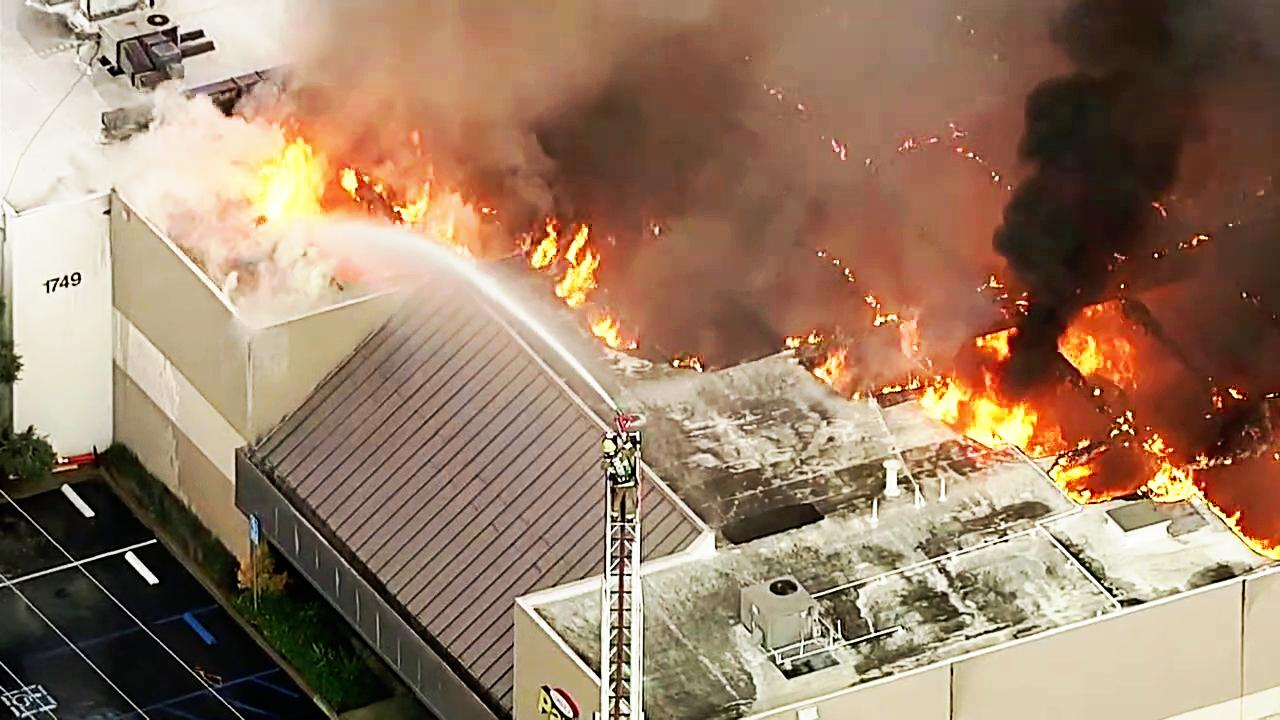fire: (915, 362, 1037, 443), (249, 142, 369, 224)
smoke: (1007, 0, 1256, 345)
